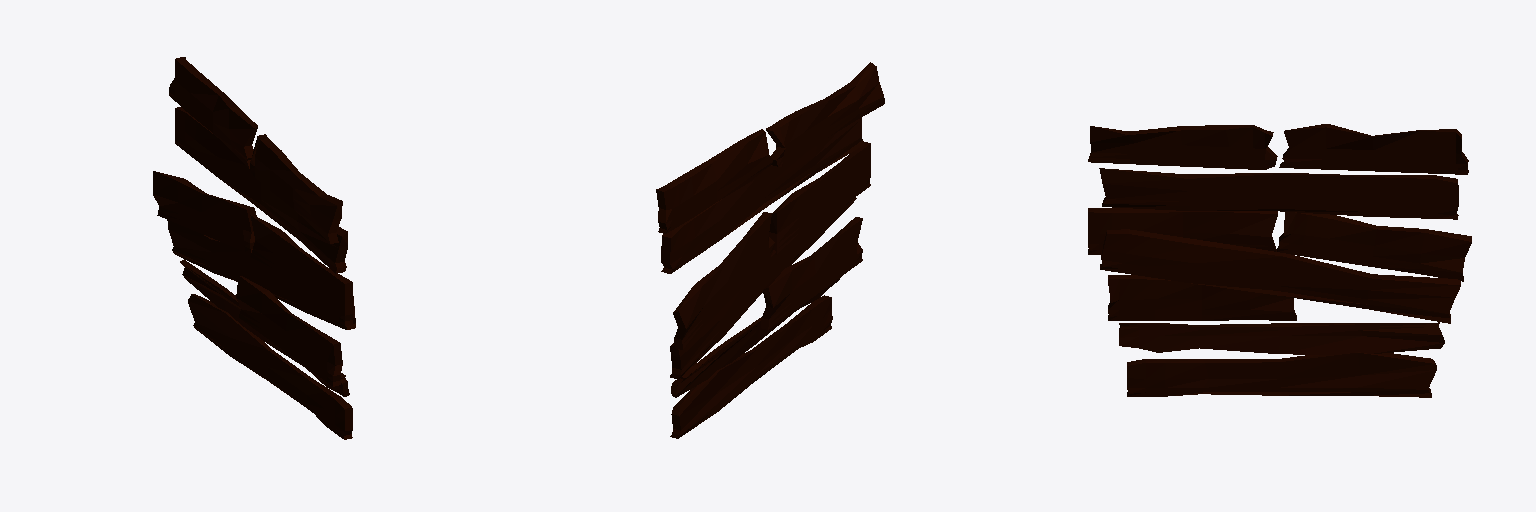
File: DoorPlanks.obj
The picture shows the model from 3 angles: view 1: azimuth 30°, elevation 25°; view 2: azimuth 150°, elevation 25°; view 3: azimuth 270°, elevation 25°; orthographic projection.
Visible parts, largest first — view 1: Cube.003, Cube.006, Cube.005, Cube, Cube.001, Cube.002, Cube.008, Cube.007, Cube.004; view 2: Cube.006, Cube.003, Cube.008, Cube.007, Cube.001, Cube, Cube.005, Cube.002, Cube.004; view 3: Cube.002, Cube.006, Cube.003, Cube.004, Cube.001, Cube.008, Cube.007, Cube.005, Cube.
Boxes of the visible parts, x1,y1,x2,y2 form: Cube.003: [188, 294, 352, 439]; Cube.006: [175, 107, 347, 273]; Cube.005: [236, 275, 342, 386]; Cube: [250, 215, 352, 325]; Cube.001: [153, 171, 256, 253]; Cube.002: [167, 220, 355, 329]; Cube.008: [169, 57, 257, 168]; Cube.007: [250, 134, 342, 243]; Cube.004: [180, 259, 349, 396]; Cube.006: [661, 118, 864, 273]; Cube.003: [670, 295, 832, 438]; Cube.008: [656, 129, 773, 233]; Cube.007: [766, 62, 884, 166]; Cube.001: [673, 212, 775, 349]; Cube: [769, 142, 870, 254]; Cube.005: [761, 217, 862, 329]; Cube.002: [670, 197, 856, 379]; Cube.004: [671, 277, 840, 397]; Cube.002: [1100, 229, 1460, 323]; Cube.006: [1099, 168, 1458, 219]; Cube.003: [1127, 352, 1436, 397]; Cube.004: [1119, 322, 1444, 354]; Cube.001: [1277, 212, 1471, 281]; Cube.008: [1279, 124, 1468, 174]; Cube.007: [1088, 125, 1277, 169]; Cube.005: [1108, 275, 1296, 320]; Cube: [1088, 208, 1277, 254].
Size of the model in its own units: 0.6893 by 3.88 by 5.16.